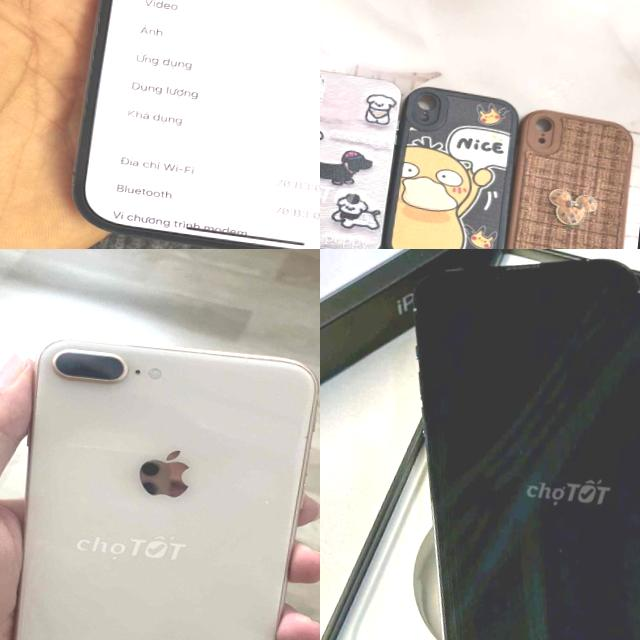gen_12_13: (366, 249, 640, 640)
gen_14: (61, 0, 320, 249)
gen_7_8: (0, 327, 320, 640)
